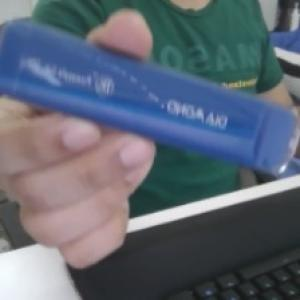Diamond-E-Ciggirate: (0, 21, 300, 178)
